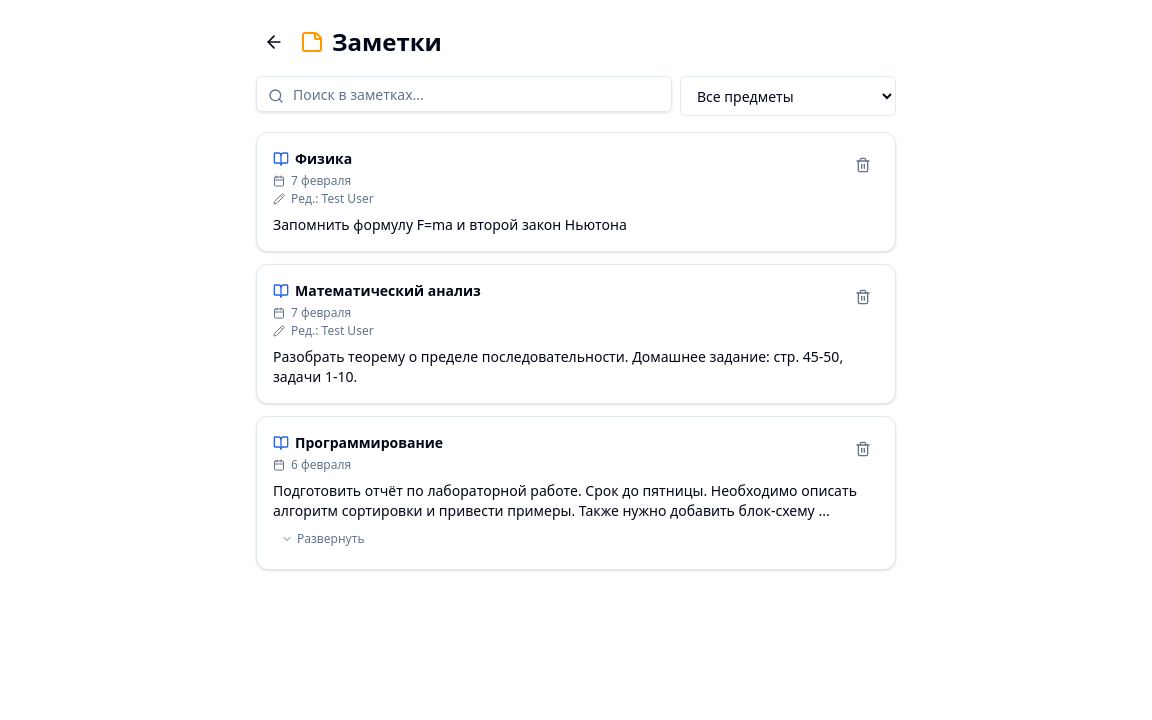
it: NotesPage › can close delete modal with cancel
Click the button named "Удалить заметку" in the row of "Физика": (863, 165) [847,149,879,181]
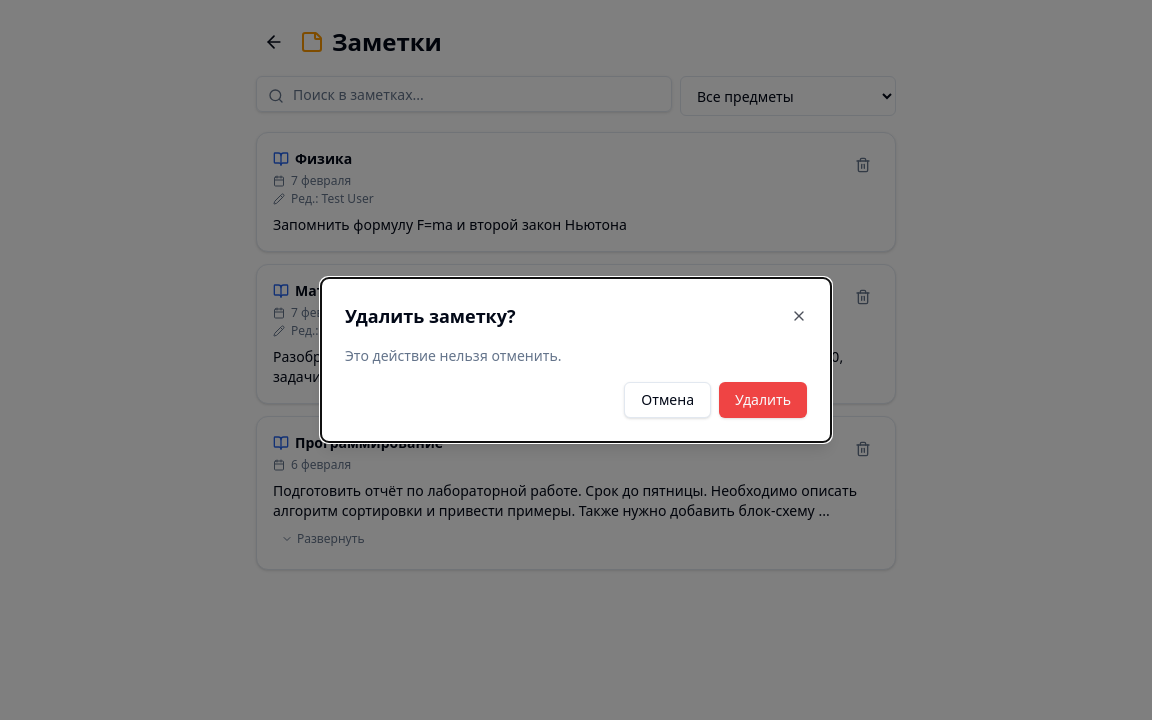
Click the button "Отмена": (668, 400) [624,382,711,418]
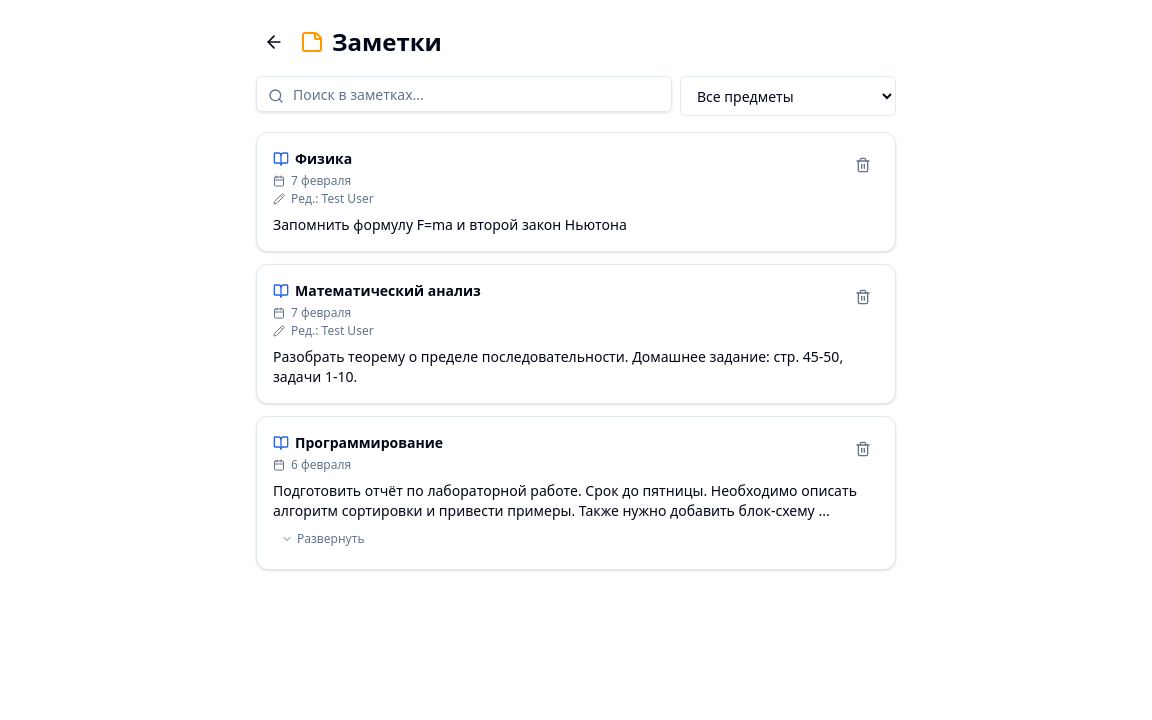
Expected: the heading "Удалить заметку?" is gone
